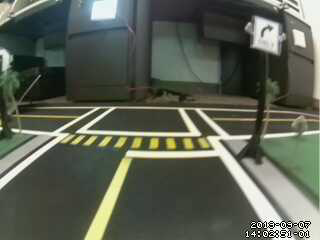Right_only_sign: (251, 16, 286, 57)
